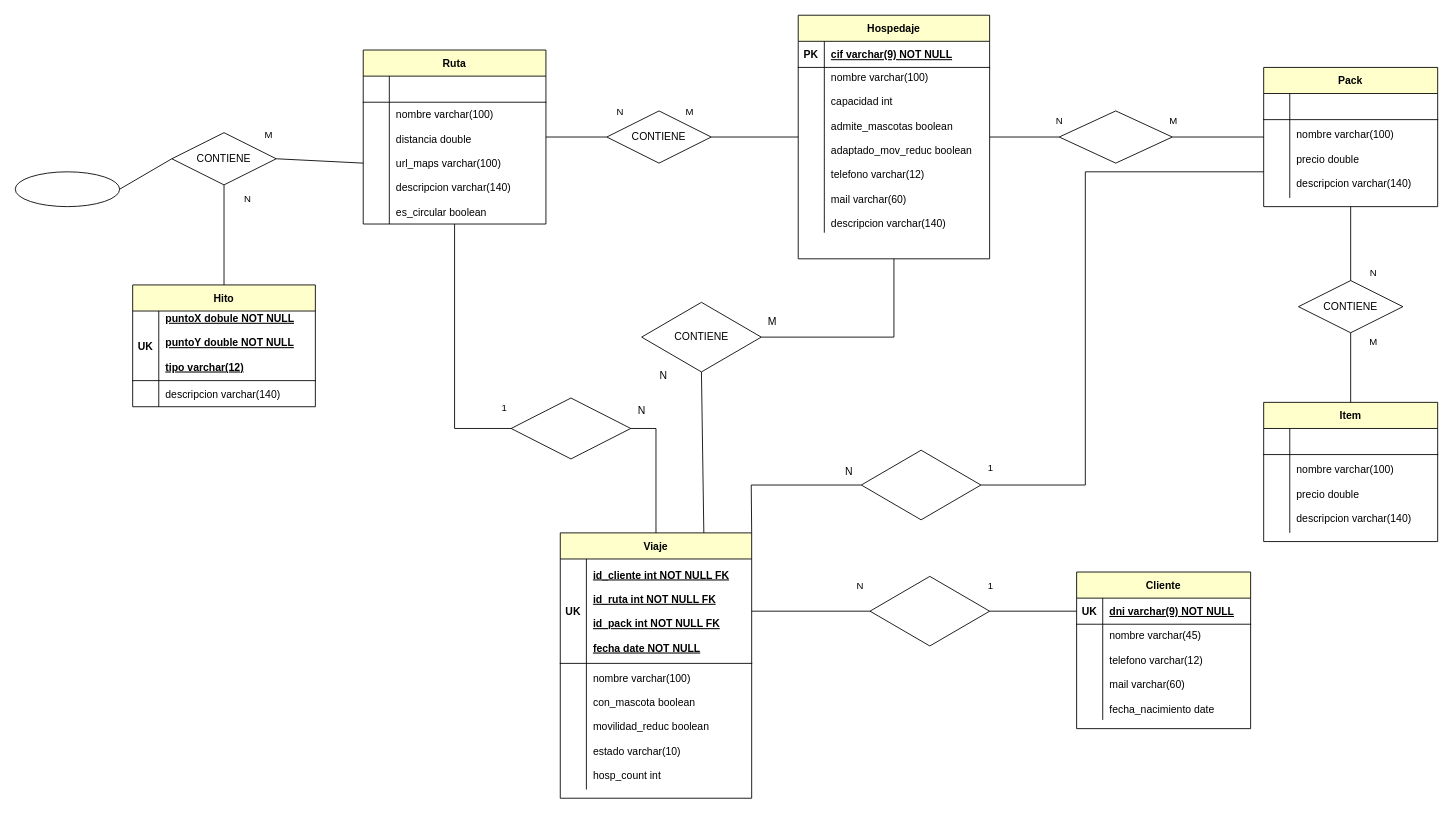
Some shapes in this 1453 by 813 pixel diagram are drawn without their labels. The centre of each missing label's shape, as x and y in pixels:
CORRESPONDE A: [920,484]
orden_en_ruta int: [67,189]
PERTENECE A: [929,611]
RECORRE: [570,428]
SE ASIGNA A: [1115,136]
